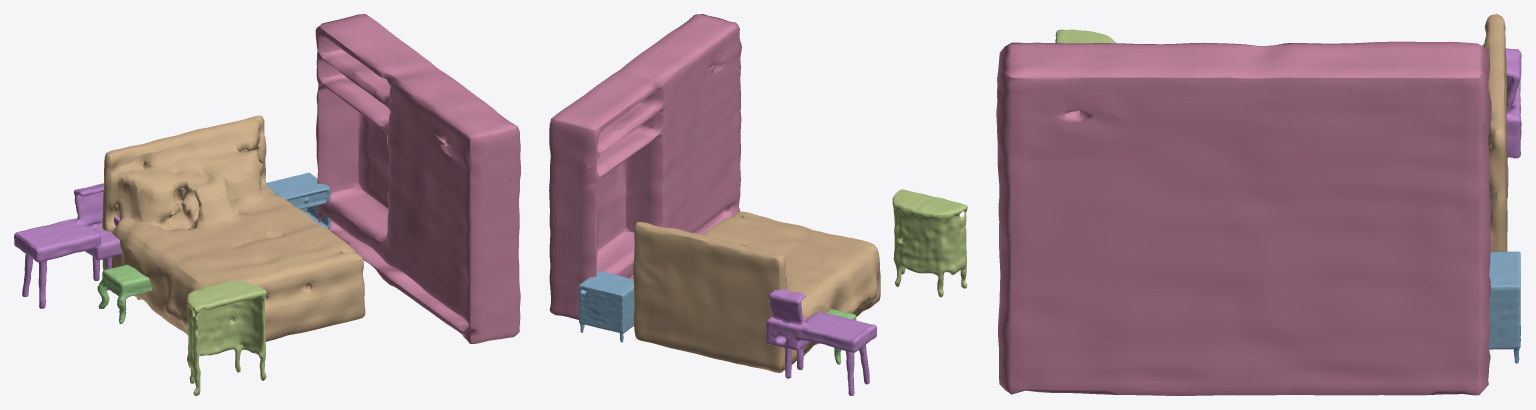
File: MasterBedroom-33296_echoscene.glb
3 views of the same model, side by side, from view 1: azimuth 30°, elevation 25°; view 2: azimuth 150°, elevation 25°; view 3: azimuth 270°, elevation 25° (orthographic). The views are drawn at different scales.
Visible parts, largest first — view 1: world; view 2: world; view 3: world.
Boxes of the visible parts, box(x1,y1,x2,y2) form: world: box(14, 14, 520, 395); world: box(549, 14, 967, 395); world: box(996, 14, 1521, 395).
Size of the model in its own units: 4.01 by 2.36 by 3.5.
